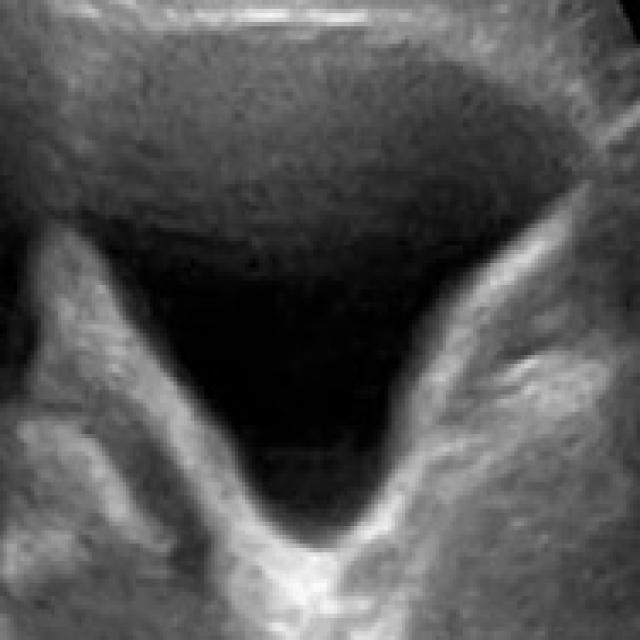bladder: (32, 11, 617, 596)
